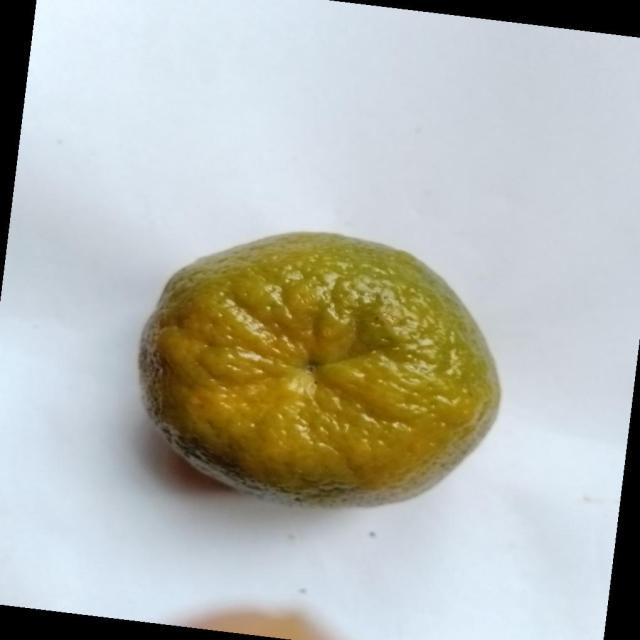fresh orange: (138, 229, 502, 508)
